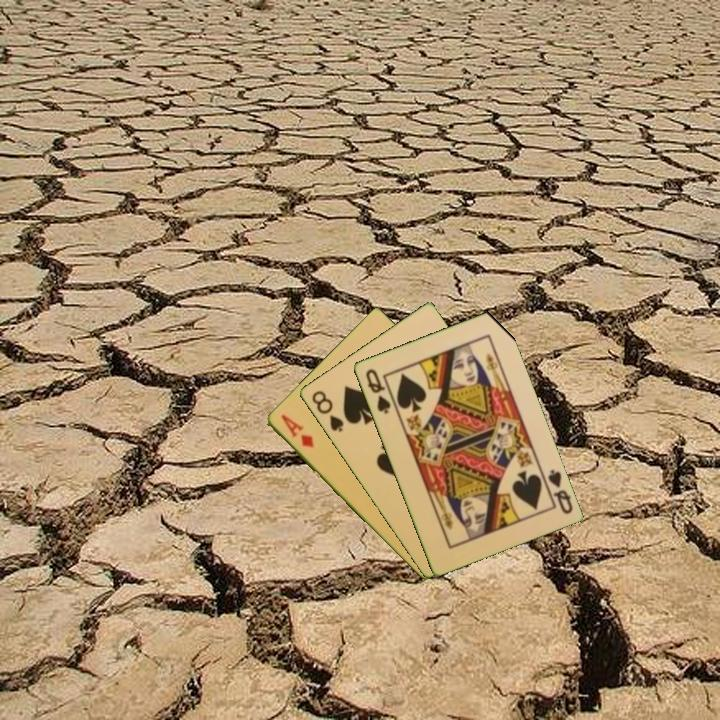8s: (308, 387, 346, 435)
Ad: (277, 410, 317, 451)
Qs: (362, 365, 393, 417), (544, 466, 575, 517)
